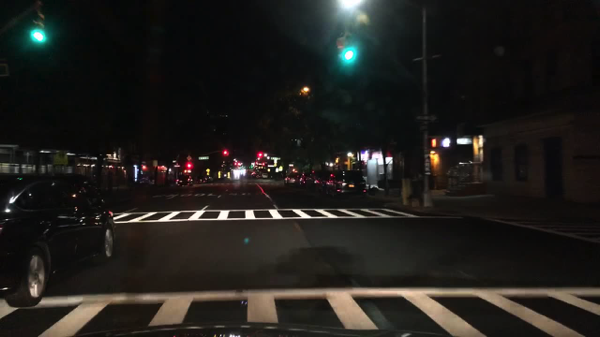car: (0, 171, 118, 309), (324, 168, 367, 201), (306, 169, 330, 187), (282, 170, 299, 185), (175, 174, 194, 186), (297, 172, 311, 186), (197, 176, 213, 184), (249, 170, 259, 179), (259, 172, 269, 181)
traffic light: (30, 13, 46, 44), (344, 36, 355, 61), (337, 35, 345, 62), (439, 136, 451, 149), (430, 137, 437, 148), (221, 147, 228, 156), (257, 152, 262, 158), (187, 164, 192, 169)
traffic sign: (53, 151, 68, 165), (412, 115, 437, 123), (0, 62, 10, 76), (198, 156, 209, 160), (186, 154, 192, 161), (271, 157, 281, 161), (278, 165, 283, 173), (274, 167, 279, 175), (206, 168, 211, 175), (272, 162, 277, 168)
